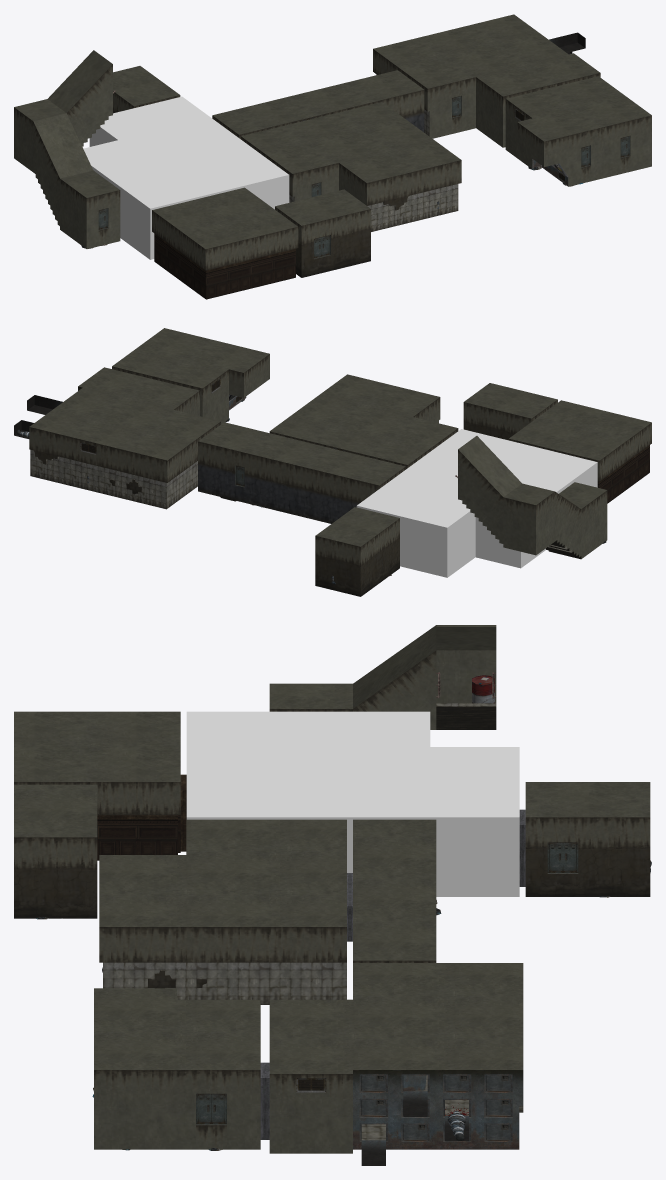
File: horror_game_map_002.fbx
3 views of the same model, one above another, from view 1: azimuth 30°, elevation 25°; view 2: azimuth 150°, elevation 25°; view 3: azimuth 270°, elevation 25° (orthographic). The views are drawn at different scales.
Visible parts, largest first — view 1: room_04, temp, room_01, stairs_01, room_02, room_05, room_03, room_06, room_07; view 2: room_01, temp, room_03, stairs_01, room_04, room_02, room_05, room_07, room_06; view 3: room_01, room_04, temp, room_02, room_05, room_07, stairs_01, room_03, room_06.
Boxes of the visible parts, box(x1,y1,x2,y2) form: room_04: box(241, 102, 461, 231); temp: box(83, 96, 289, 259); room_01: box(373, 14, 600, 147); stairs_01: box(14, 50, 120, 248); room_02: box(505, 76, 651, 186); room_05: box(152, 187, 298, 299); room_03: box(212, 70, 424, 139); room_06: box(275, 189, 370, 277); room_07: box(113, 66, 180, 113); room_01: box(14, 367, 220, 509); temp: box(356, 429, 597, 577); room_03: box(198, 422, 405, 523); stairs_01: box(458, 436, 607, 559); room_04: box(269, 374, 458, 469); room_02: box(112, 328, 269, 424); room_05: box(508, 400, 651, 503); room_07: box(315, 507, 399, 596); room_06: box(463, 383, 557, 440); room_01: box(260, 963, 523, 1165); room_04: box(99, 819, 349, 1004); temp: box(186, 711, 519, 896); room_02: box(94, 988, 260, 1149); room_05: box(14, 711, 186, 860); room_07: box(519, 782, 650, 896); stairs_01: box(269, 625, 496, 729); room_03: box(350, 819, 436, 962); room_06: box(14, 784, 97, 918).
Size of the model in its own units: 2345 by 526 by 1532.
